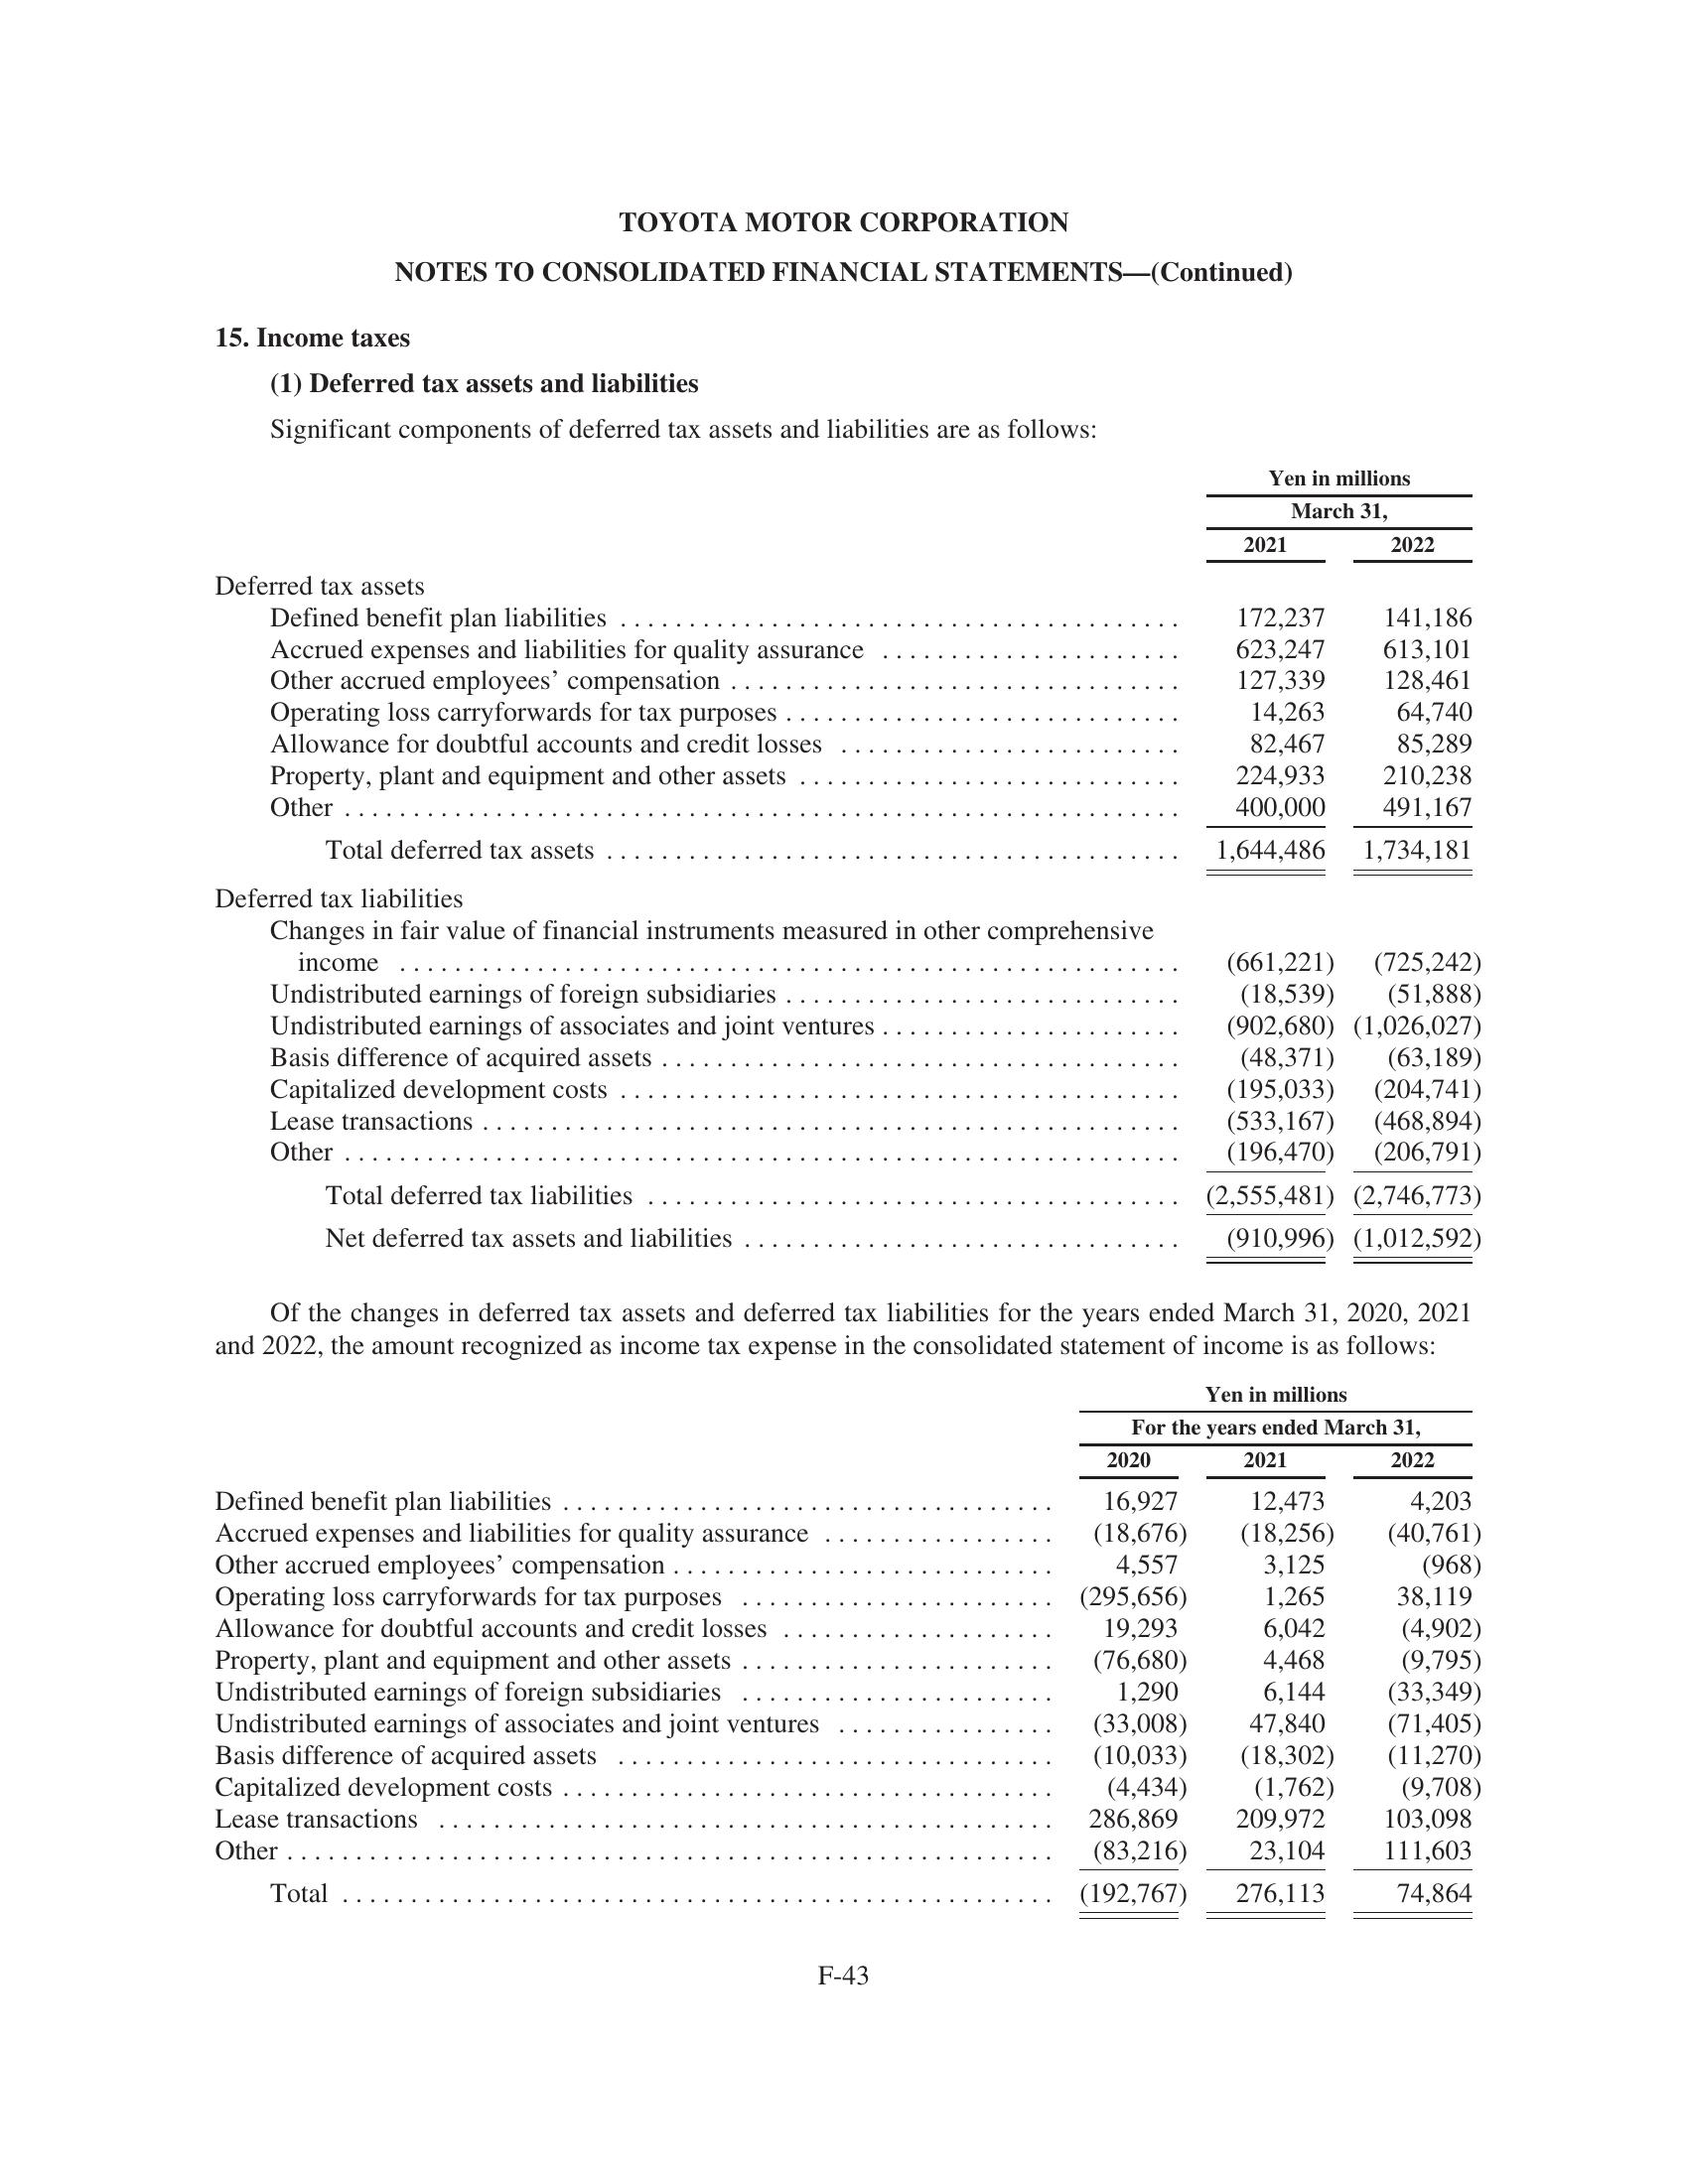Footer: (0, 1954, 1688, 2184)
Header: (0, 0, 1688, 179)
Table: (133, 452, 1525, 1278), (137, 1376, 1543, 1907)
